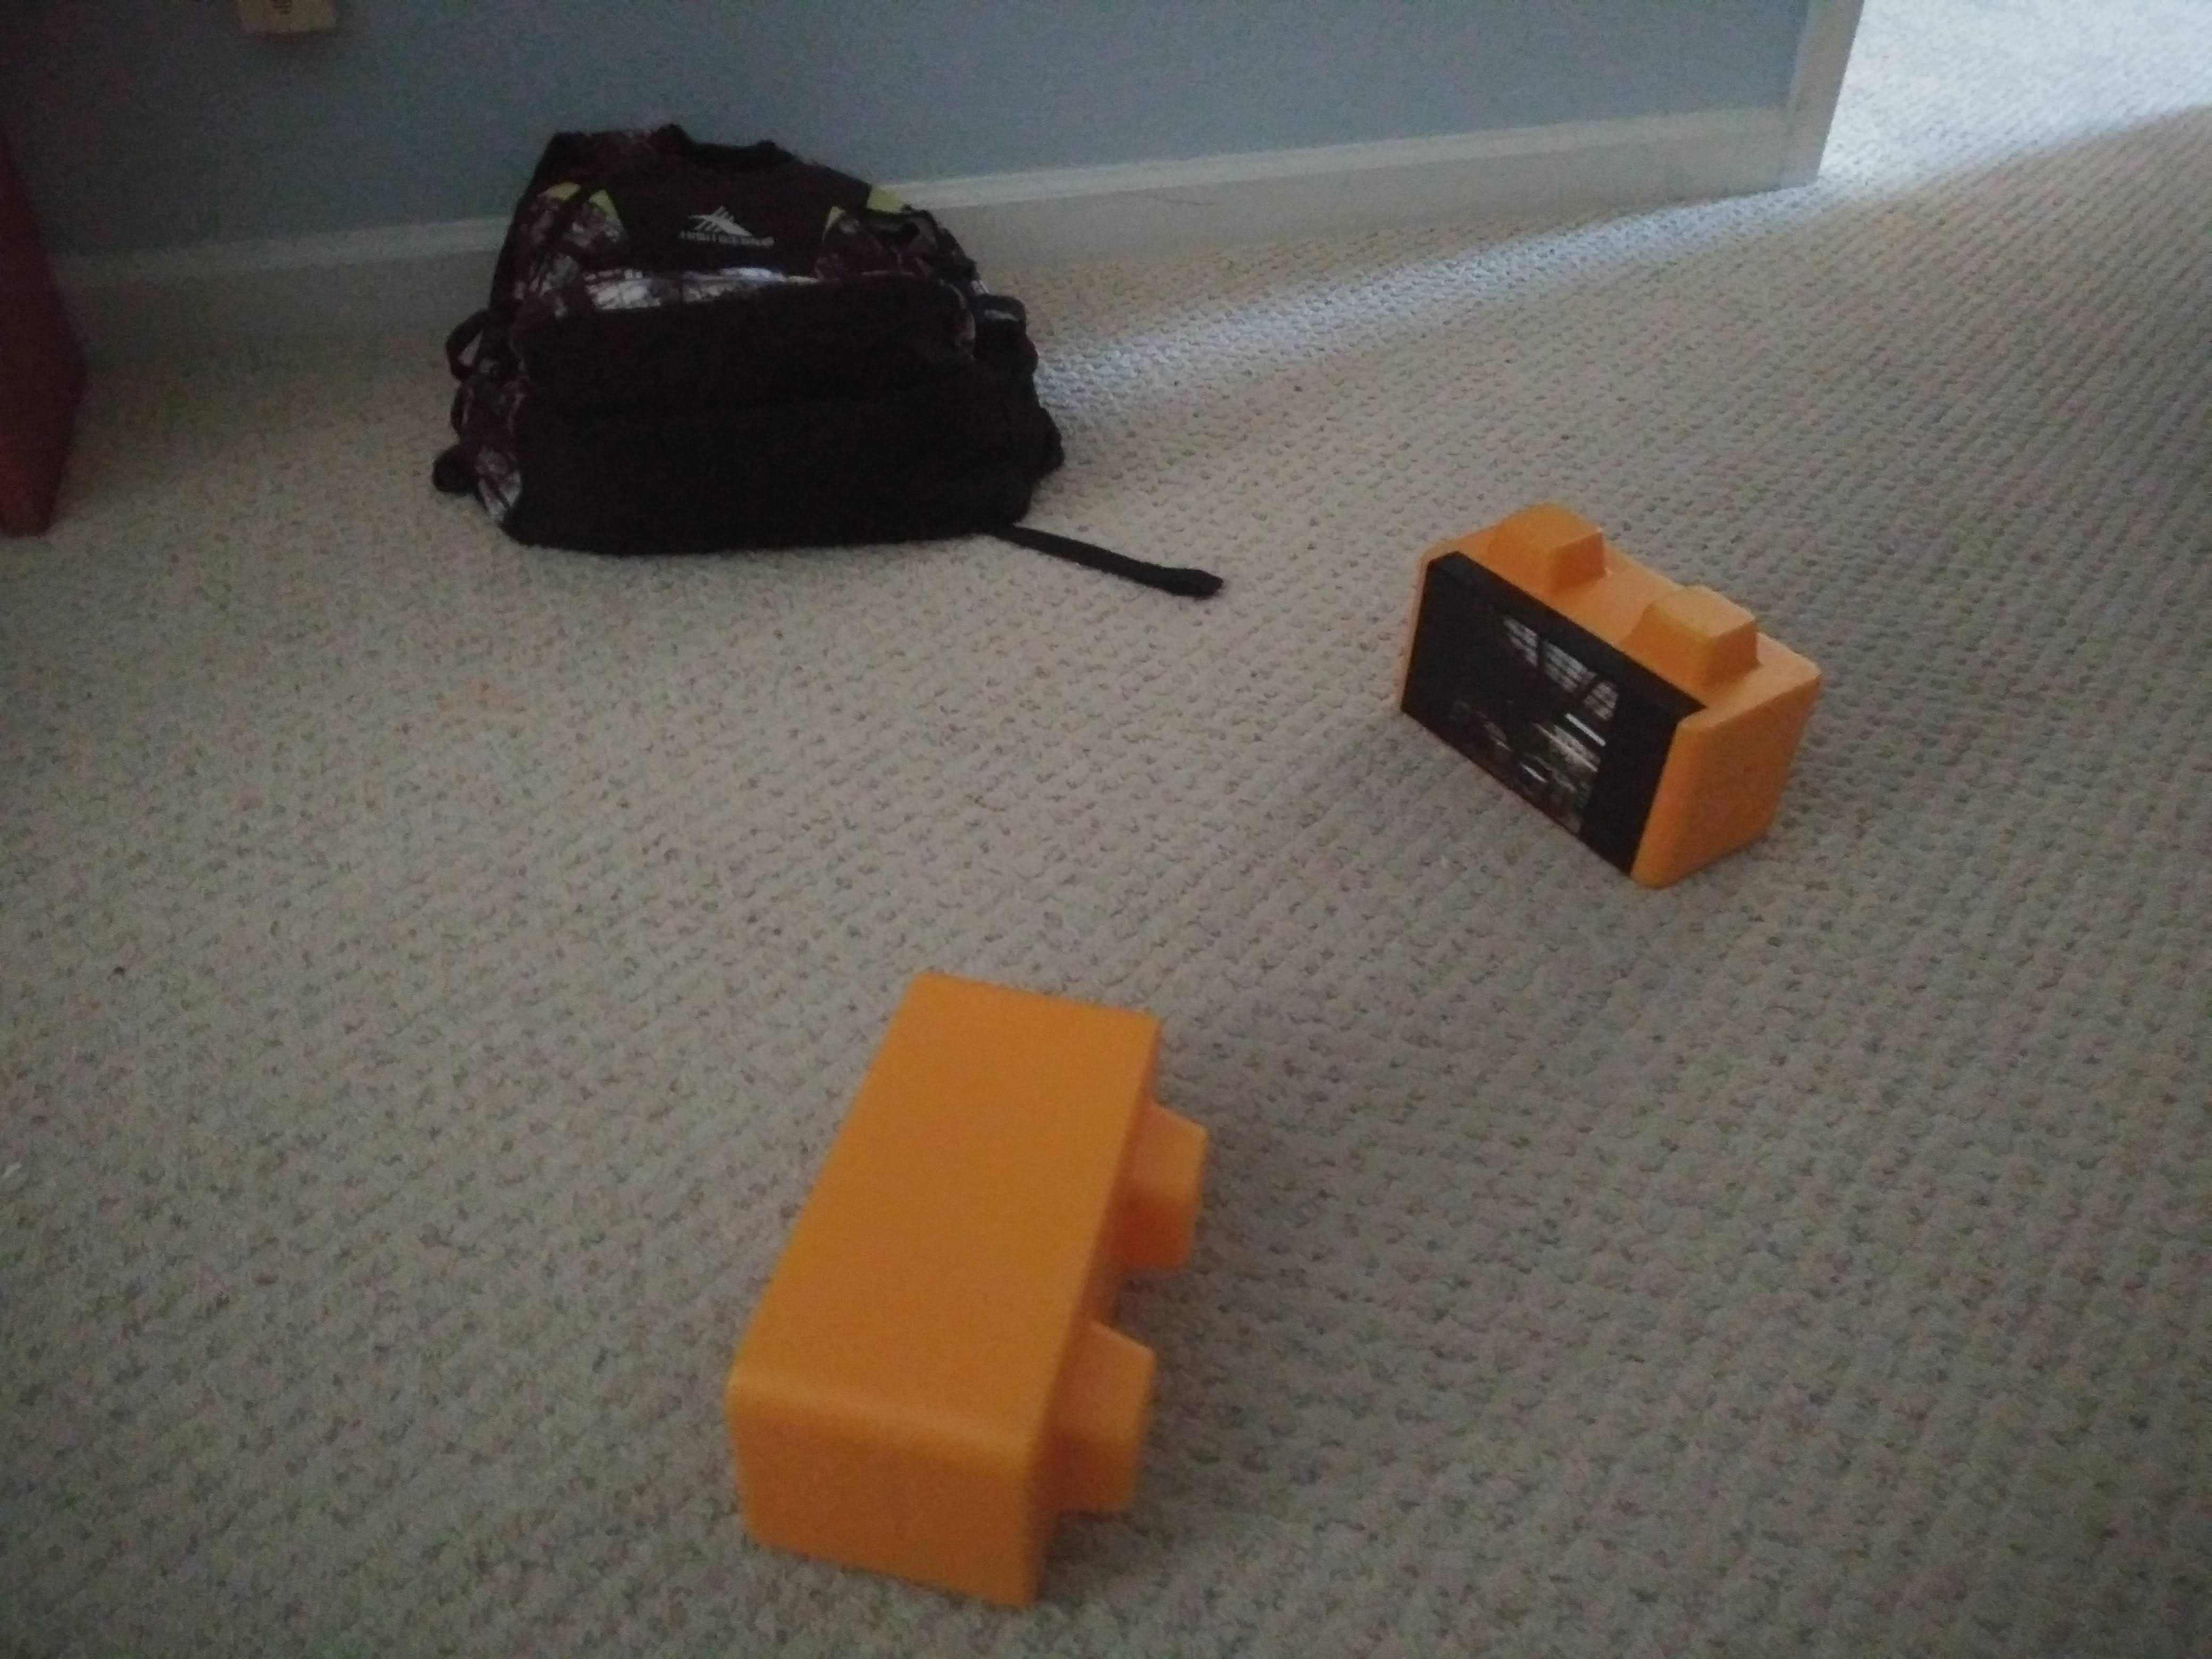skystone: (1413, 538, 1778, 871)
stone: (773, 1011, 1153, 1586)
